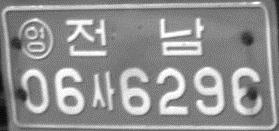0: (20, 68, 50, 114)
2: (155, 66, 188, 116)
6: (230, 66, 262, 117), (118, 67, 151, 116), (52, 67, 84, 115)
9: (192, 66, 225, 117)
사: (89, 71, 115, 111)
영: (17, 17, 54, 60)
전남_D: (64, 17, 204, 57)
